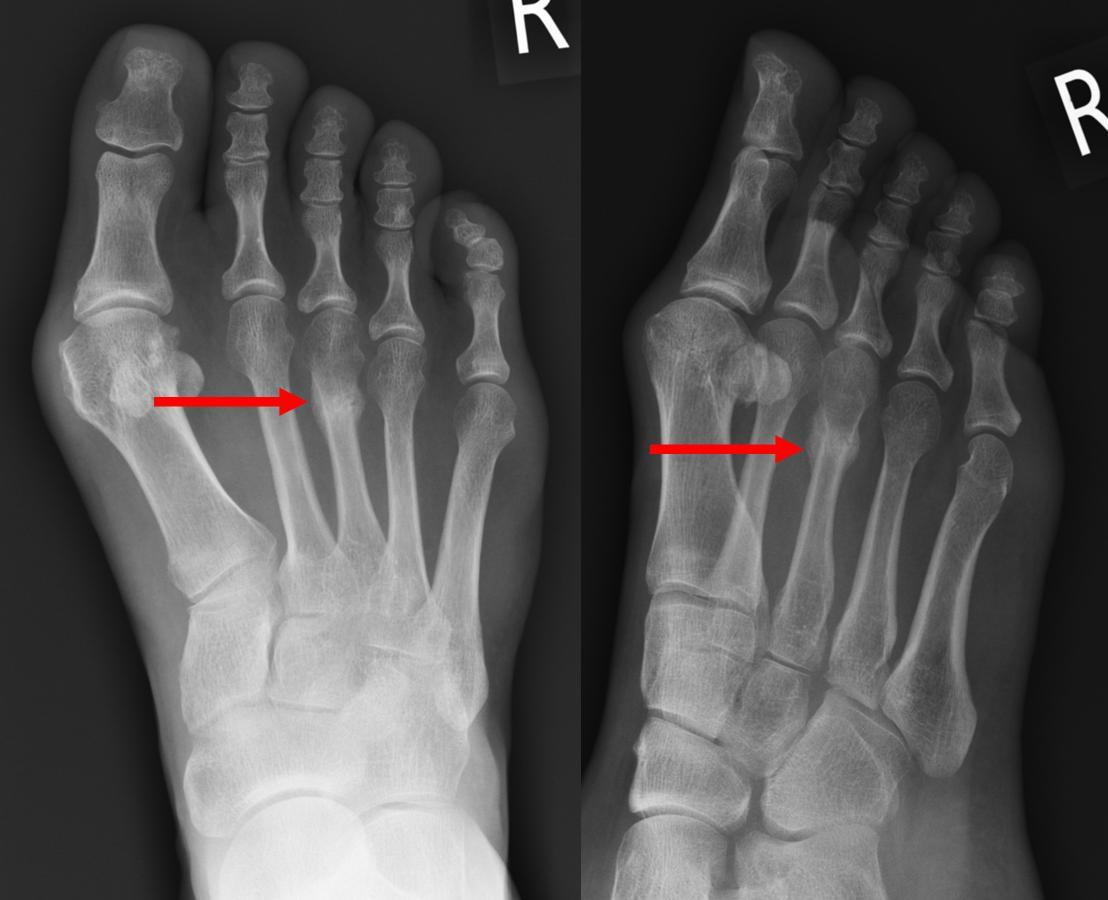fractured: (309, 383, 373, 432), (807, 425, 868, 471)
